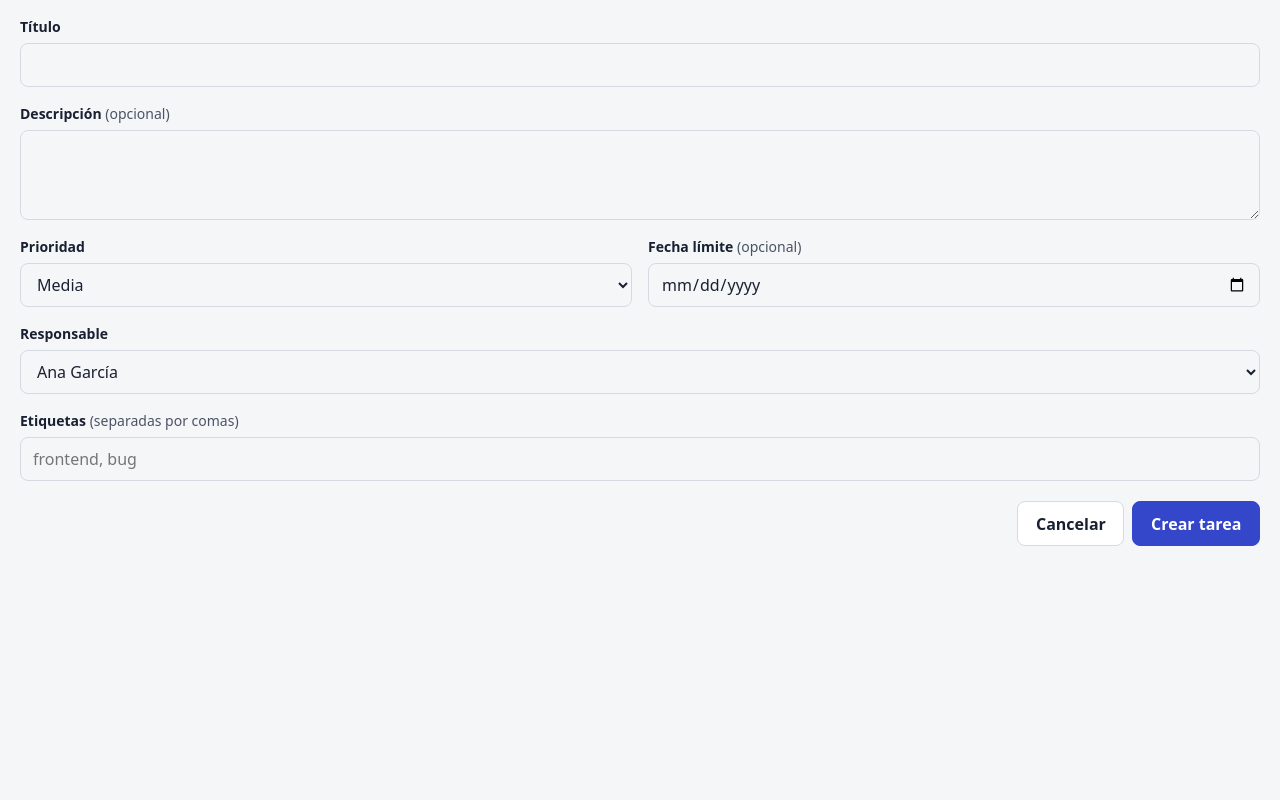
Test: FormularioTarea › muestra junto al campo el error que devuelve la API
In the field labelled "Título": (640, 65) [20,43,1260,87], type "Repetida"
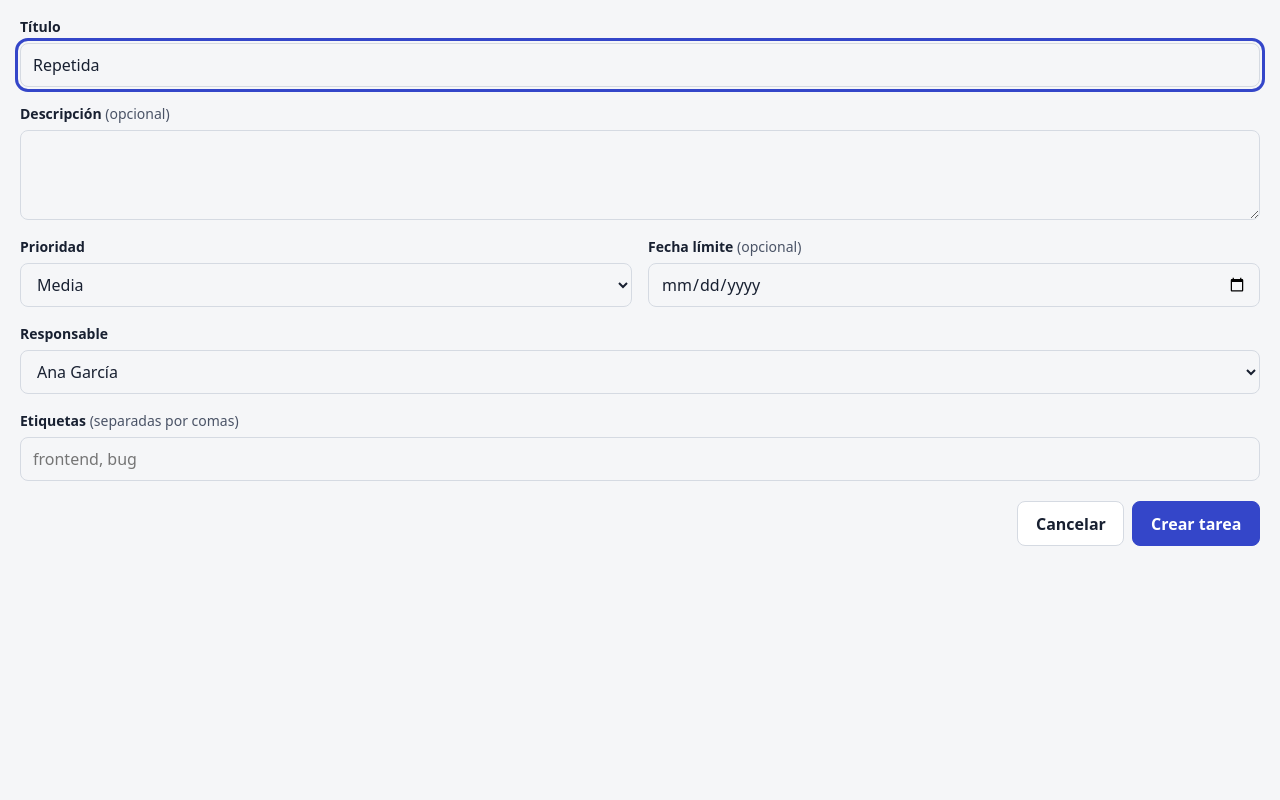
Click the button "Crear tarea": (1196, 524) [1132,501,1260,546]
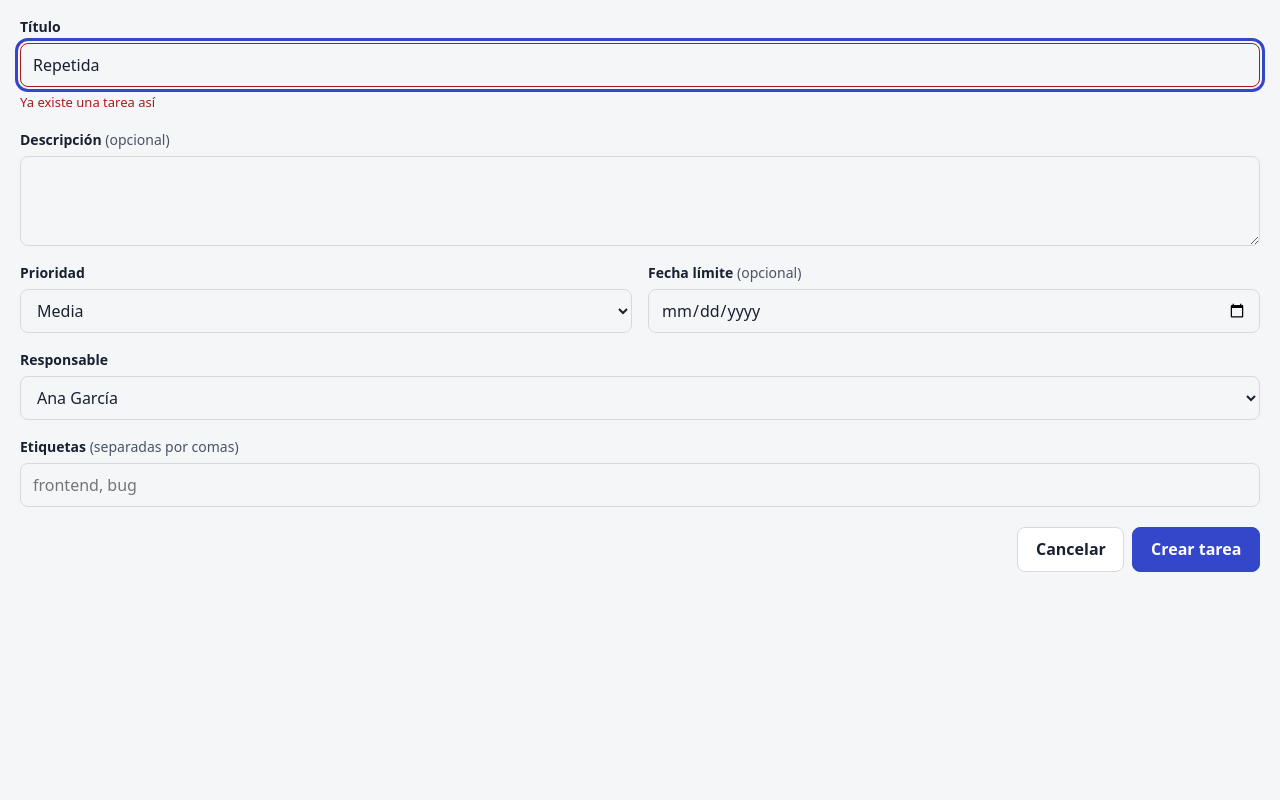
Now the text "Ya existe una tarea así" is shown, box [20,93,155,111]
